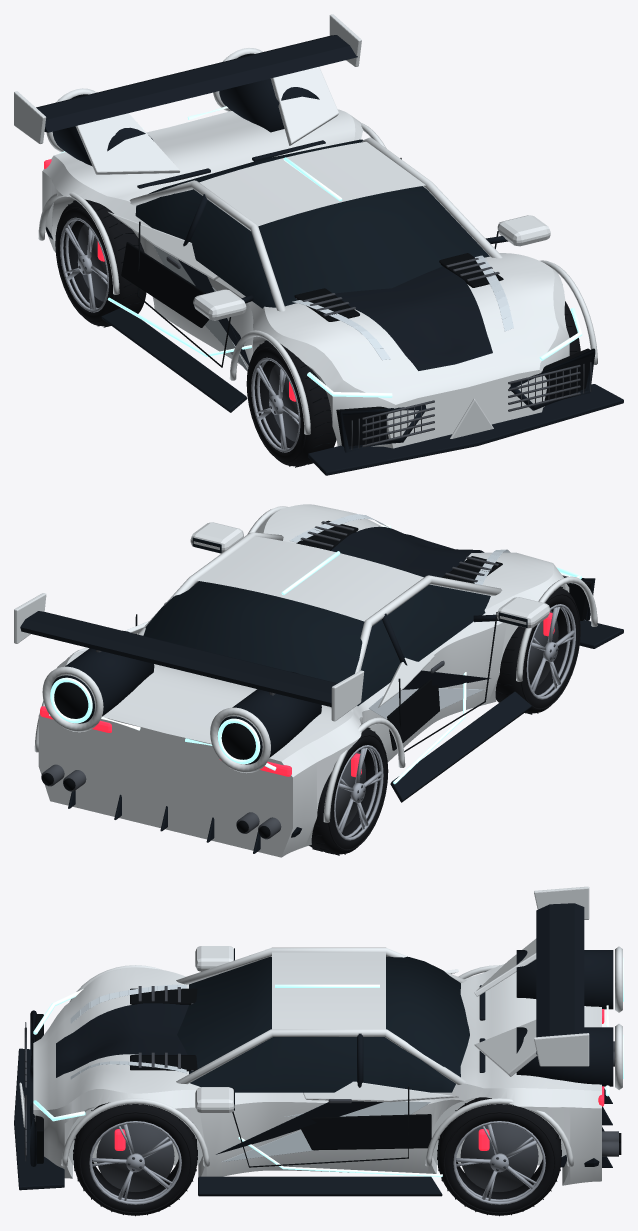
Rendered from nova-x.glb.
3 renders of one model, top to bottom at view 1: azimuth 30°, elevation 25°; view 2: azimuth 150°, elevation 25°; view 3: azimuth 270°, elevation 25°, orthographic. The views are drawn at different scales.
Visible parts, largest first — view 1: body, wheel_fl_spin_mesh, wheel_rl_spin_mesh; view 2: body, wheel_fl_spin_mesh, wheel_rl_spin_mesh; view 3: body, wheel_rr_spin_mesh, wheel_fr_spin_mesh.
Boxes of the visible parts, box(x1,y1,x2,y2) form: body: box(14, 14, 623, 475); wheel_fl_spin_mesh: box(246, 340, 336, 467); wheel_rl_spin_mesh: box(55, 199, 146, 327); body: box(14, 504, 623, 857); wheel_fl_spin_mesh: box(495, 586, 580, 714); wheel_rl_spin_mesh: box(309, 727, 388, 855); body: box(14, 886, 623, 1196); wheel_rr_spin_mesh: box(437, 1097, 561, 1216); wheel_fr_spin_mesh: box(73, 1102, 197, 1216).
Bounding box in the file's own units: 3.03 × 1.73 × 4.93.
